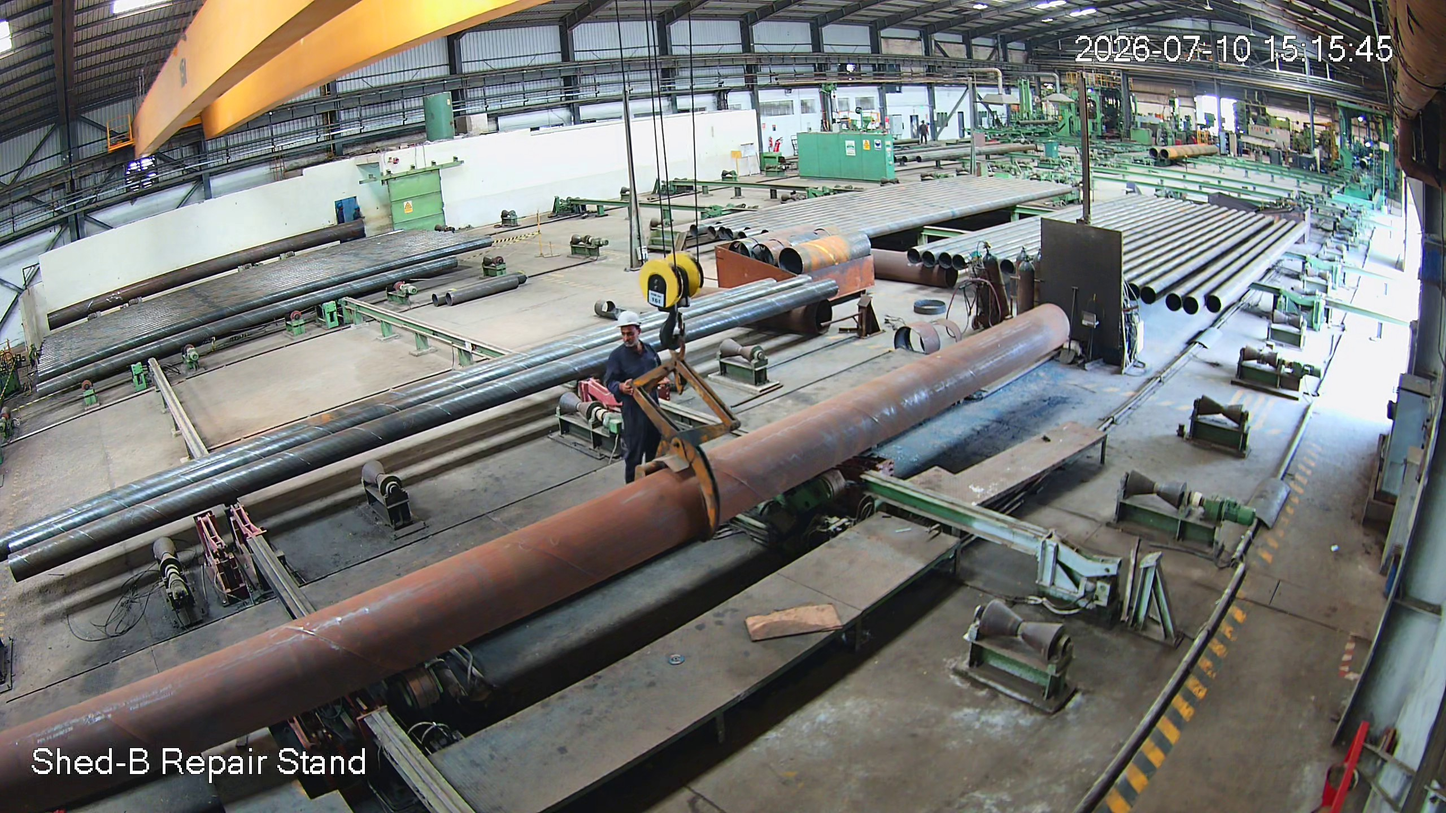Helmet: (608, 305, 665, 372)
Person: (604, 311, 675, 476)
